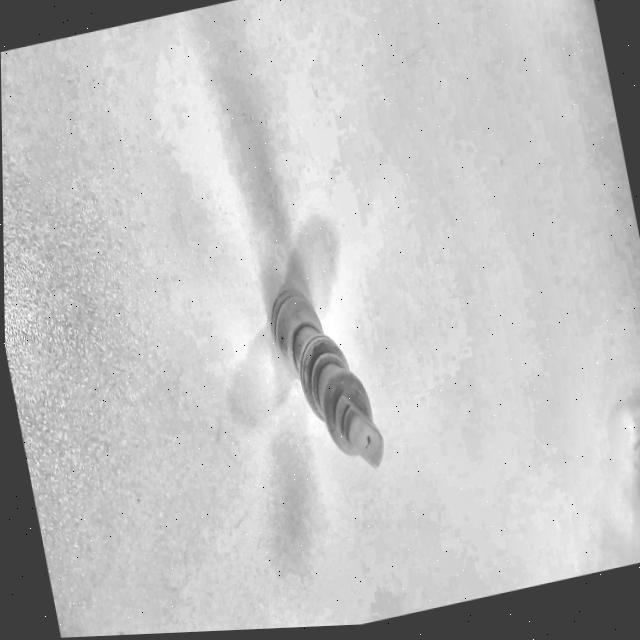white-king: (270, 287, 383, 467)
